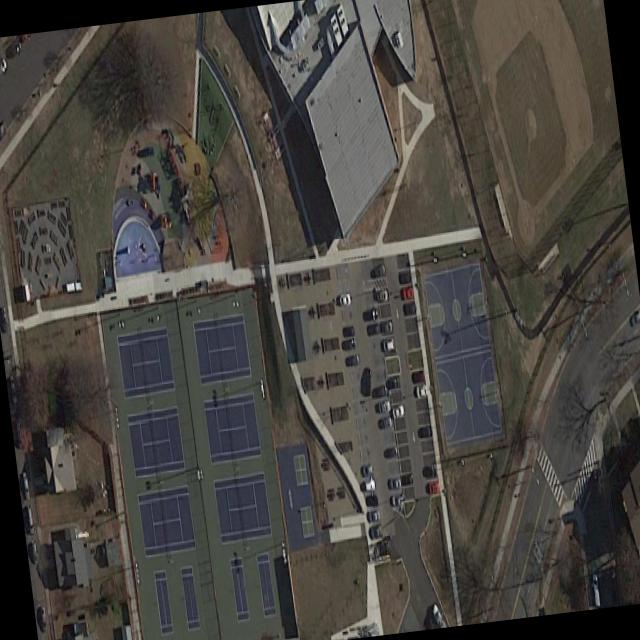small-vehicle: (5, 38, 20, 62), (8, 374, 17, 407), (14, 420, 23, 452), (21, 470, 29, 504), (591, 572, 599, 606), (381, 336, 395, 355), (25, 501, 33, 533), (29, 538, 38, 566), (374, 383, 387, 402), (628, 309, 640, 329), (386, 373, 399, 391), (373, 261, 385, 280), (368, 525, 382, 541), (376, 399, 390, 415), (375, 289, 389, 305), (401, 302, 415, 318), (379, 320, 392, 337), (398, 472, 411, 489), (39, 604, 47, 631), (339, 293, 352, 309), (390, 404, 403, 420), (346, 353, 359, 368), (414, 384, 427, 399), (385, 444, 396, 461), (342, 336, 355, 350), (367, 510, 379, 525), (366, 308, 377, 324), (388, 478, 401, 491), (390, 496, 403, 509), (397, 271, 410, 284), (419, 425, 431, 439), (424, 464, 436, 478), (366, 493, 377, 508), (361, 463, 372, 478), (341, 326, 354, 338), (425, 482, 438, 494), (364, 478, 374, 493), (369, 324, 380, 337), (0, 116, 6, 139), (0, 55, 6, 78), (380, 417, 391, 429), (411, 373, 424, 383), (401, 289, 412, 300)
